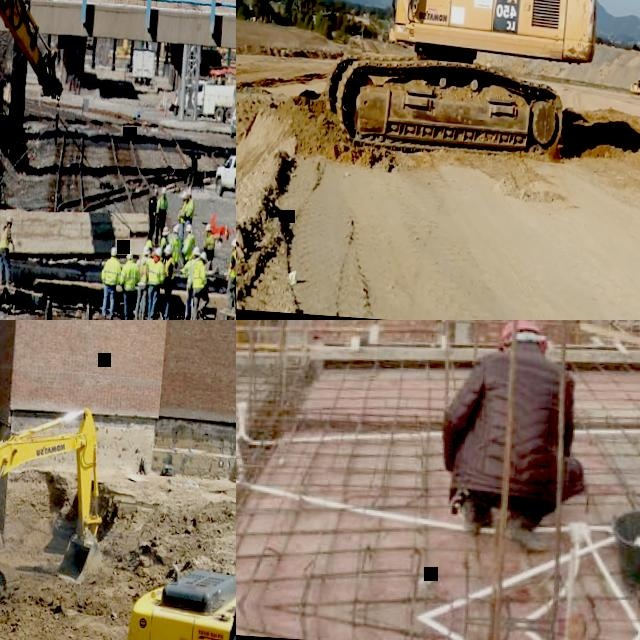Hardhat: (497, 320, 549, 350), (161, 225, 170, 235), (162, 243, 171, 253), (110, 245, 118, 255), (184, 223, 192, 233), (192, 246, 200, 256), (200, 251, 208, 261), (125, 251, 133, 260), (154, 248, 162, 256), (180, 192, 188, 200), (231, 237, 236, 247), (172, 225, 179, 232), (187, 187, 193, 195), (205, 222, 211, 230), (6, 216, 13, 222), (144, 245, 150, 252), (160, 187, 167, 193), (154, 189, 158, 194)
NO-Safety Vest: (457, 348, 574, 496), (148, 194, 156, 214)
Person: (432, 320, 596, 557), (175, 244, 199, 320), (188, 246, 212, 320), (116, 251, 141, 320), (98, 245, 121, 319), (143, 247, 166, 320), (158, 243, 178, 320), (132, 249, 151, 320), (0, 216, 18, 288), (221, 236, 236, 312), (201, 220, 223, 269), (153, 186, 168, 245), (145, 187, 159, 245), (180, 223, 196, 266), (168, 224, 182, 267), (176, 190, 188, 226), (184, 186, 195, 225), (158, 225, 170, 249), (145, 238, 153, 249), (638, 80, 640, 86)
Safety Cone: (222, 220, 229, 240), (160, 89, 165, 109), (162, 101, 167, 118), (157, 97, 162, 111)
Safety Vest: (119, 260, 141, 290), (99, 258, 121, 285), (180, 257, 197, 288), (145, 256, 163, 284), (135, 256, 150, 286), (192, 260, 208, 288), (181, 232, 195, 260), (168, 233, 180, 263), (163, 254, 175, 279), (155, 195, 168, 217), (227, 248, 236, 278), (177, 200, 187, 223), (204, 232, 216, 251), (0, 225, 9, 250), (184, 198, 194, 218), (159, 237, 167, 247)
machinery: (236, 0, 616, 163), (119, 320, 236, 640), (0, 389, 109, 617), (0, 0, 69, 262), (629, 76, 640, 106)
vehicle: (183, 78, 236, 126), (213, 151, 236, 199), (128, 49, 154, 86), (229, 104, 236, 138)
